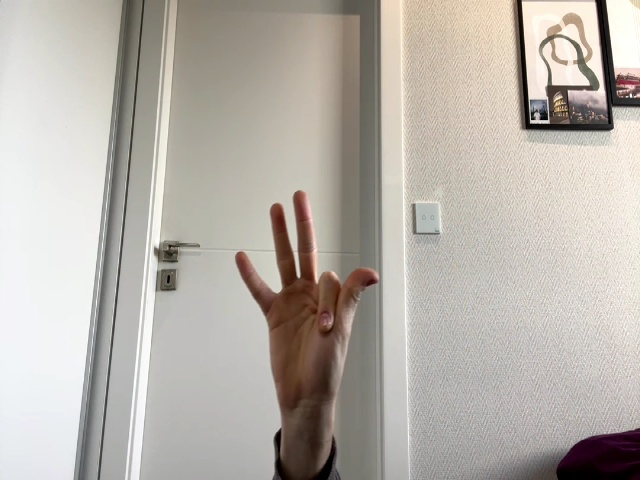F: (235, 190, 378, 400)
